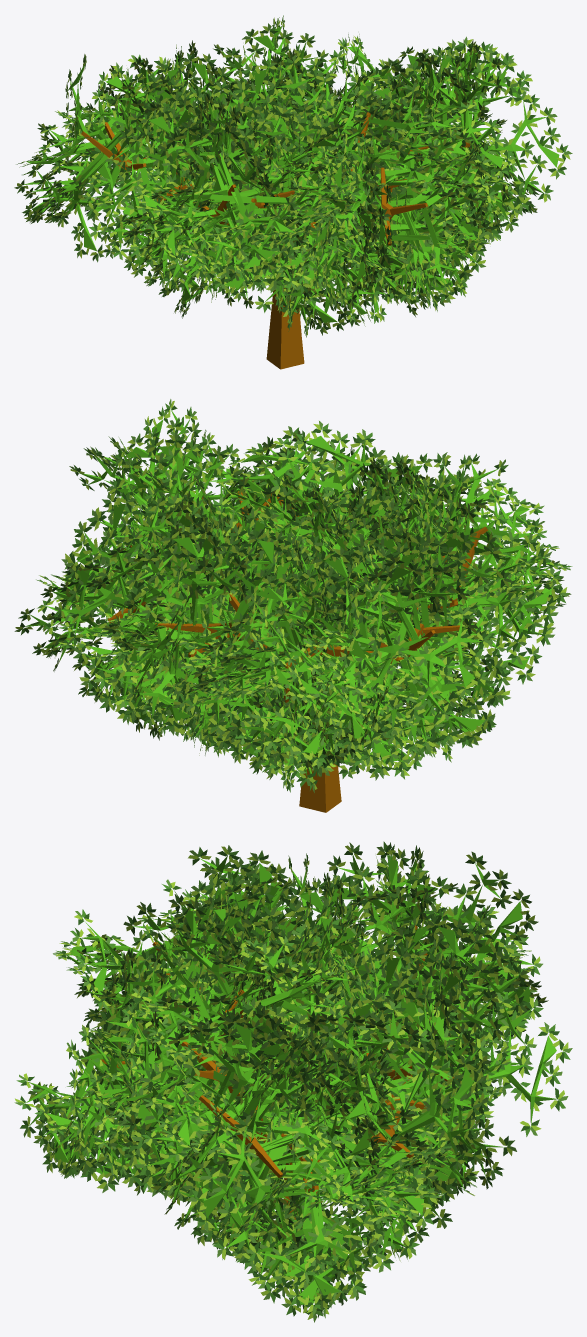
File: Arbol-Animado2.glb
3 renders of one model, top to bottom at view 1: azimuth 30°, elevation 25°; view 2: azimuth 150°, elevation 25°; view 3: azimuth 270°, elevation 25°, orthographic. The views are drawn at different scales.
Visible parts, largest first — view 1: Arbol; view 2: Arbol; view 3: Arbol.
Boxes of the visible parts, x1=… form: Arbol: x1=14, y1=15, x2=572, y2=369; Arbol: x1=14, y1=399, x2=572, y2=812; Arbol: x1=14, y1=841, x2=572, y2=1322.
Size of the model in its own units: 69.26 by 44.23 by 59.24.
